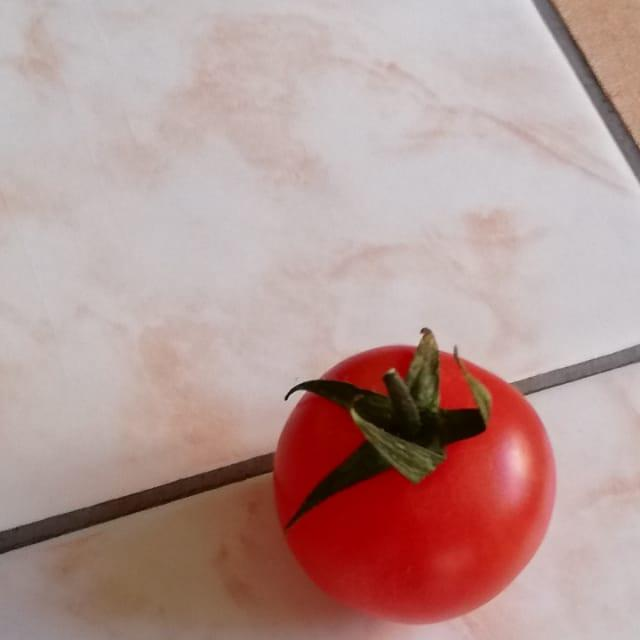tomato: (255, 316, 565, 633)
